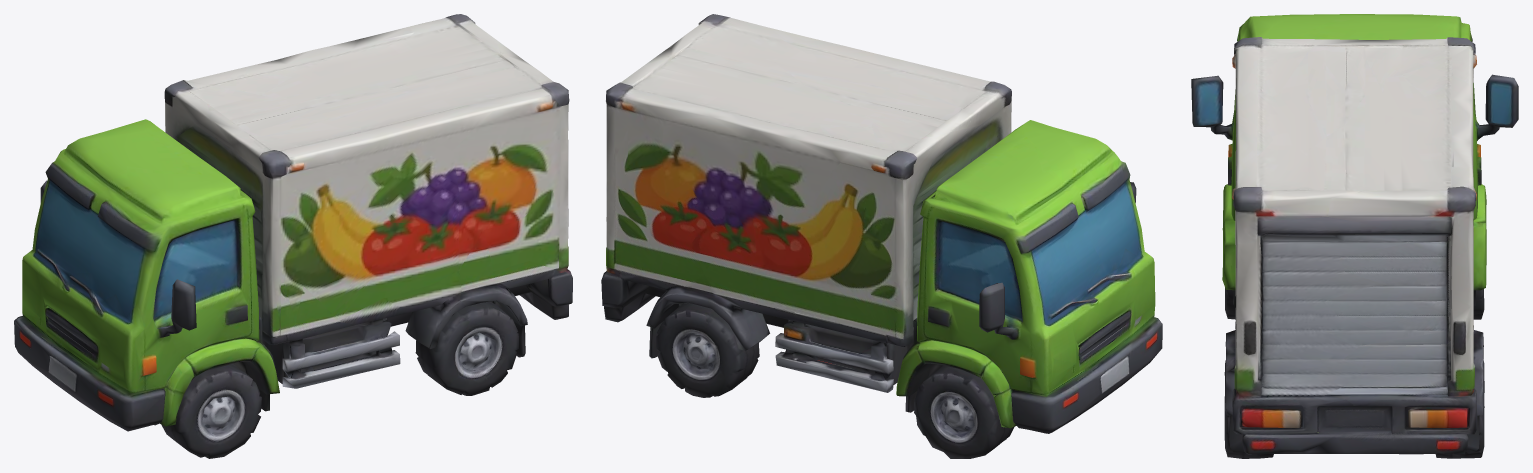
Rendered from st_truck.glb.
The picture shows the model from 3 angles, left to right: view 1: azimuth 30°, elevation 25°; view 2: azimuth 150°, elevation 25°; view 3: azimuth 270°, elevation 25°; orthographic projection. The views are drawn at different scales.
Parts seen in each view (by area): view 1: tripo_node_ffc69310-5e2a-48e8-ab75-e959beac6f66; view 2: tripo_node_ffc69310-5e2a-48e8-ab75-e959beac6f66; view 3: tripo_node_ffc69310-5e2a-48e8-ab75-e959beac6f66.
Part boxes in pixels (<box>): tripo_node_ffc69310-5e2a-48e8-ab75-e959beac6f66: <box>14,14,572,458</box>; tripo_node_ffc69310-5e2a-48e8-ab75-e959beac6f66: <box>601,14,1162,458</box>; tripo_node_ffc69310-5e2a-48e8-ab75-e959beac6f66: <box>1191,14,1518,458</box>.
Bounding box in the file's own units: 1 × 0.5816 × 0.5575.
1 material, 1 textured.
